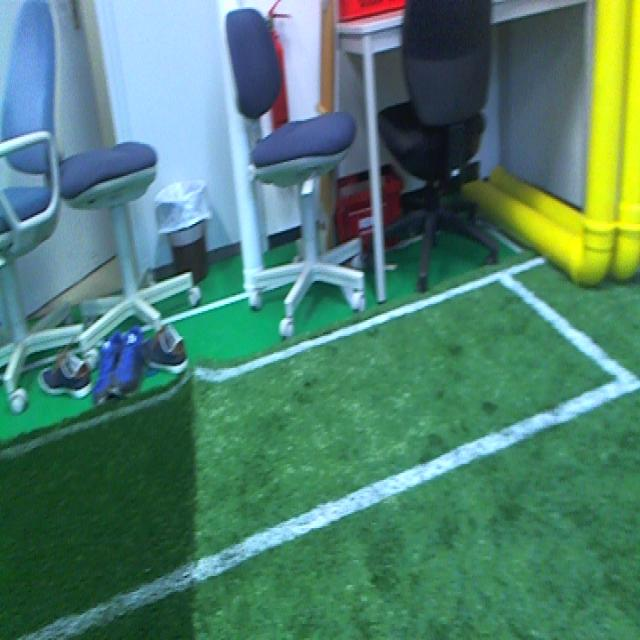goalpost: (209, 0, 273, 300)
